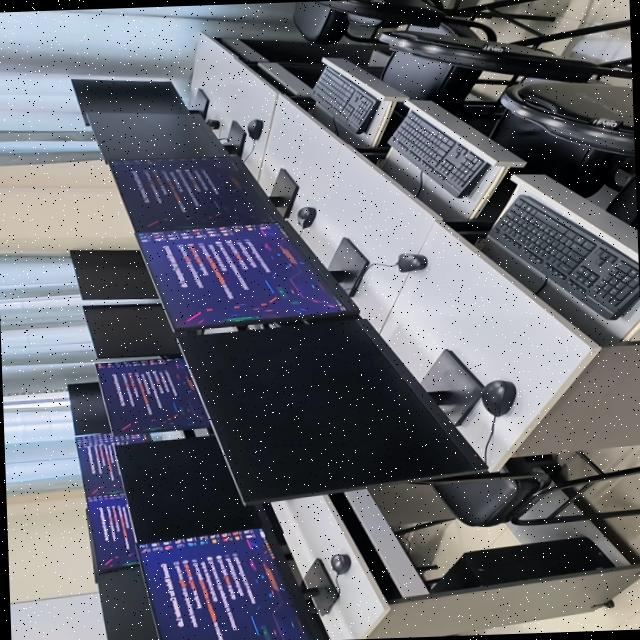Chair: (381, 30, 632, 96), (415, 458, 640, 525), (312, 0, 630, 43), (487, 108, 623, 199), (499, 79, 634, 155), (379, 40, 477, 110), (293, 0, 380, 43), (347, 12, 381, 25)
Cpu: (431, 535, 614, 591)
Keyboard: (488, 193, 639, 318), (390, 108, 491, 197), (328, 492, 400, 598), (312, 65, 380, 133)
Monitor: (177, 317, 485, 503), (137, 219, 369, 329), (138, 527, 339, 640), (116, 434, 261, 543), (108, 154, 297, 231), (95, 356, 209, 434), (89, 111, 245, 159), (71, 78, 208, 124), (83, 302, 180, 357), (75, 432, 150, 496), (98, 565, 159, 640), (70, 249, 156, 298), (86, 491, 138, 570), (67, 381, 110, 434)
Mouse: (481, 379, 515, 415), (396, 252, 426, 271), (330, 553, 350, 573), (297, 206, 316, 227), (247, 118, 262, 138), (206, 118, 219, 128)
